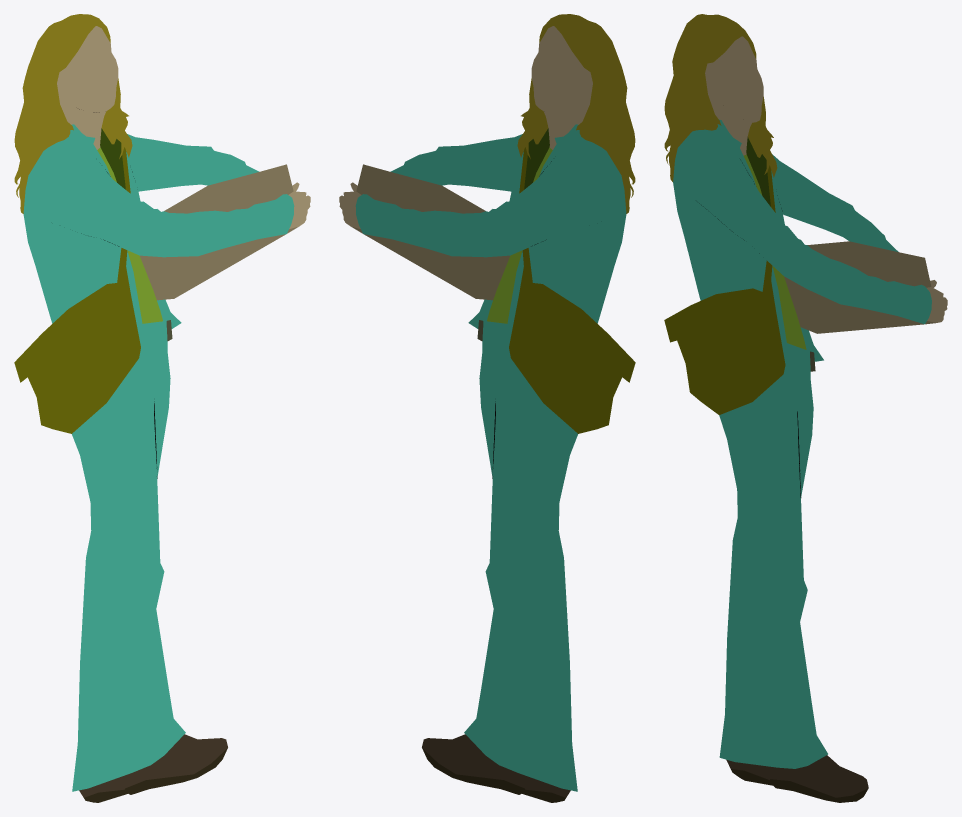
File: 2D_Woman_Standing_Sandra-scrubs.fbx
The picture shows the model from 3 angles, left to right: view 1: azimuth 30°, elevation 25°; view 2: azimuth 150°, elevation 25°; view 3: azimuth 330°, elevation 25°; orthographic projection. The views are drawn at different scales.
Parts seen in each view (by area): view 1: Mesh01; view 2: Mesh01; view 3: Mesh01.
Part boxes in pixels (<box>): Mesh01: <box>14,14,310,802</box>; Mesh01: <box>339,14,635,802</box>; Mesh01: <box>664,14,947,802</box>.
Bounding box in the file's own units: 39.06 × 100 × 0.00632.
